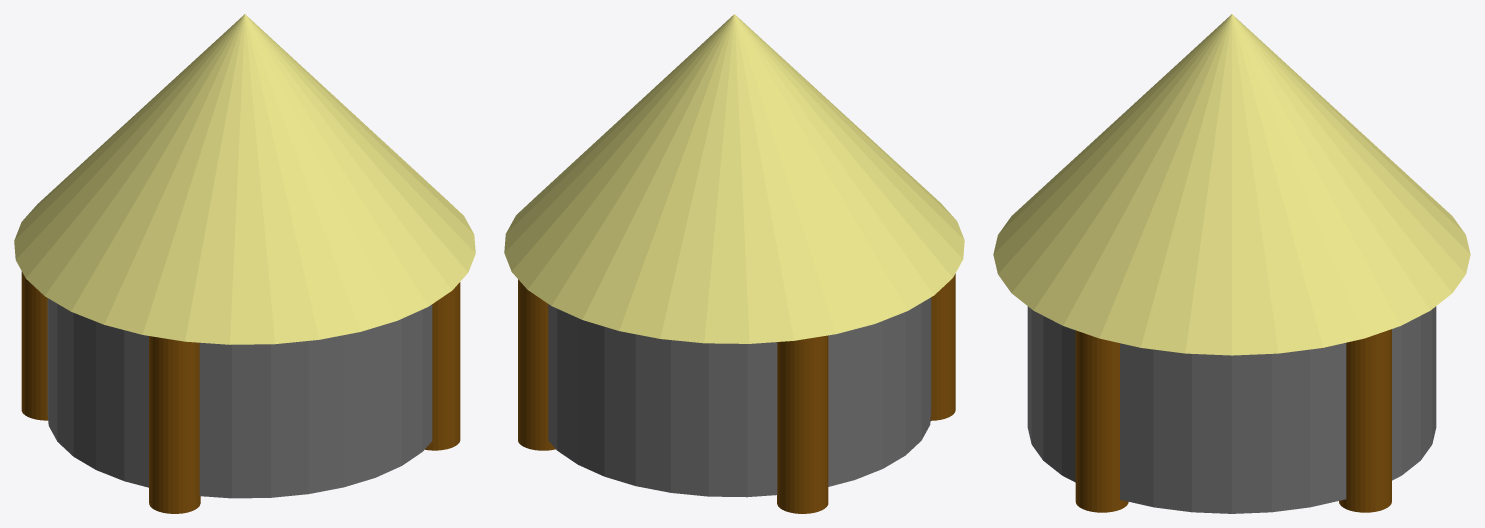
File: ShamansHut.fbx
3 views of the same model, side by side, from view 1: azimuth 30°, elevation 25°; view 2: azimuth 150°, elevation 25°; view 3: azimuth 270°, elevation 25° (orthographic). The views are drawn at different scales.
Visible parts, largest first — view 1: Roof, Walls, Struts; view 2: Roof, Walls, Struts; view 3: Roof, Walls, Struts.
Part boxes in pixels (<box>): Roof: <box>14,14,475,344</box>; Walls: <box>47,298,432,498</box>; Struts: <box>21,271,460,513</box>; Roof: <box>504,14,964,343</box>; Walls: <box>548,297,931,497</box>; Struts: <box>518,273,955,513</box>; Roof: <box>993,14,1470,355</box>; Walls: <box>1027,306,1436,513</box>; Struts: <box>1075,329,1391,512</box>.
Size of the model in its own units: 165 by 161 by 165.
